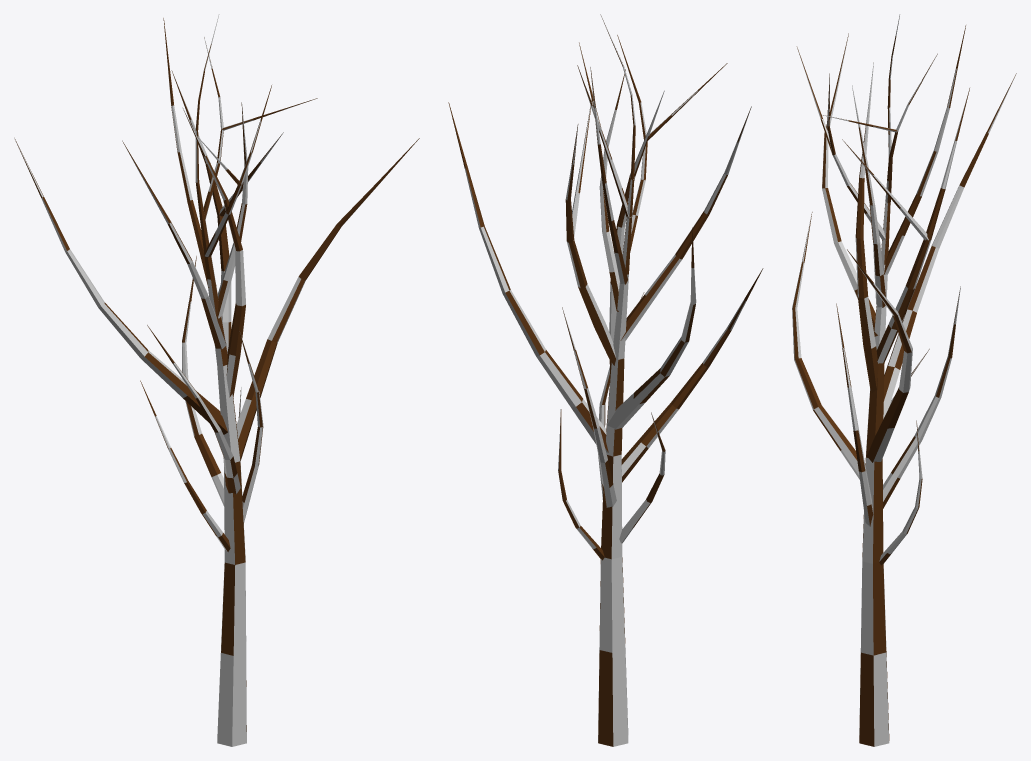
File: Tree_29.fbx
The picture shows the model from 3 angles, left to right: view 1: azimuth 30°, elevation 25°; view 2: azimuth 150°, elevation 25°; view 3: azimuth 270°, elevation 25°; orthographic projection. The views are drawn at different scales.
Visible parts, largest first — view 1: Tree_29; view 2: Tree_29; view 3: Tree_29.
Boxes of the visible parts, x1,y1,x2,y2 form: Tree_29: [14, 14, 419, 746]; Tree_29: [448, 14, 763, 746]; Tree_29: [792, 14, 1016, 746].
Bounding box in the file's own units: 307 × 652 × 183.
